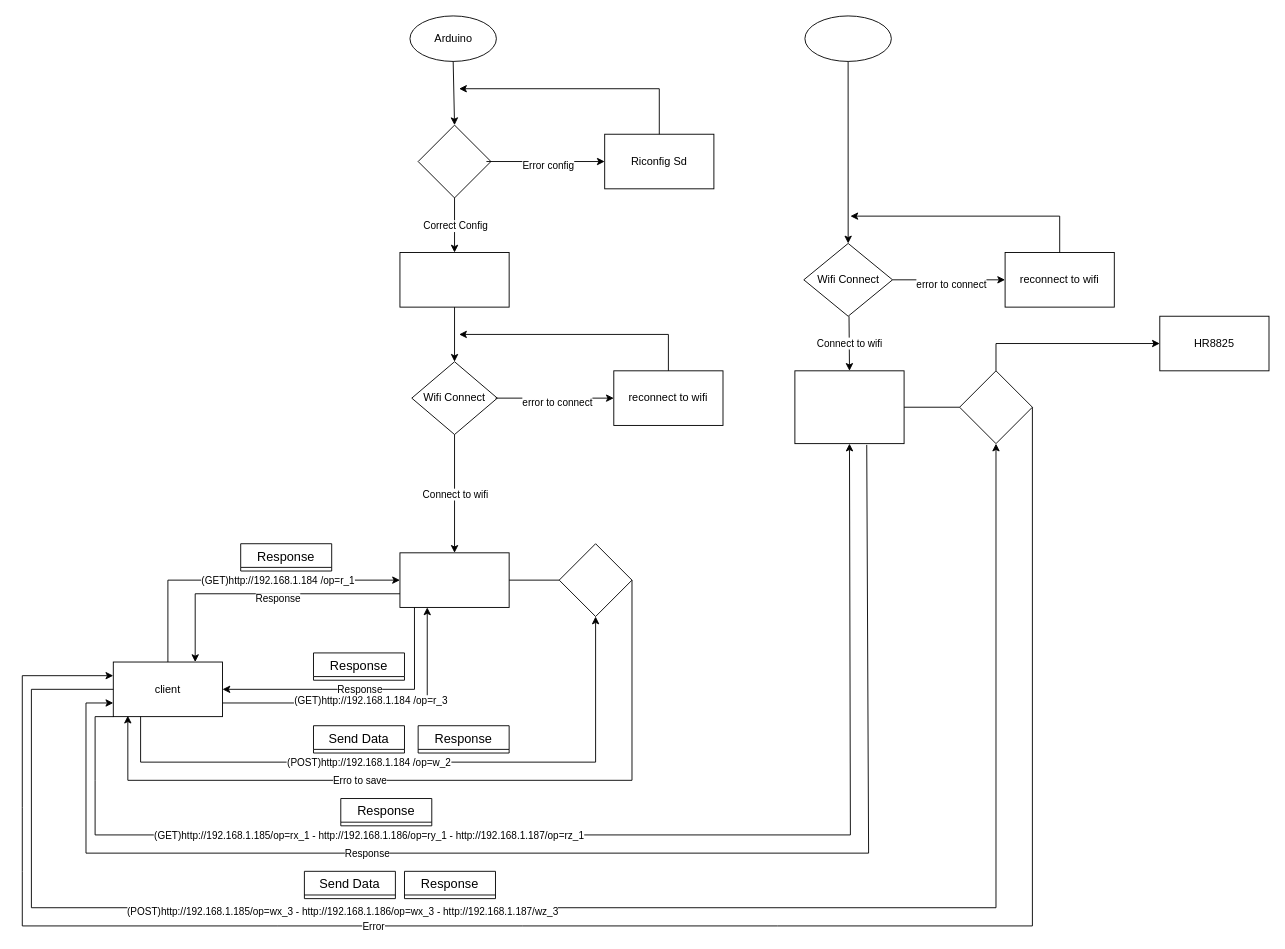
The diagram is 1285 pixels wide and 949 high, and some of its shapes have lost their labels. The shapes that lost their labels are listed below. From the top down, each one's box as (x1, y1, x2, y2) in pixels, then its label:
(804, 15, 891, 61): M5Stack
(417, 124, 491, 198): Sd Config
(399, 252, 509, 307): Read file.csv
(794, 370, 904, 444): Initialize Webserver, ipStatico: 192.168.1.185 192.168.1.186 192.168.1.187
(959, 370, 1032, 444): MOVE
(399, 552, 509, 607): Initialize Webserver, ipStatico: 192.168.1.184
(558, 543, 632, 617): Save data
